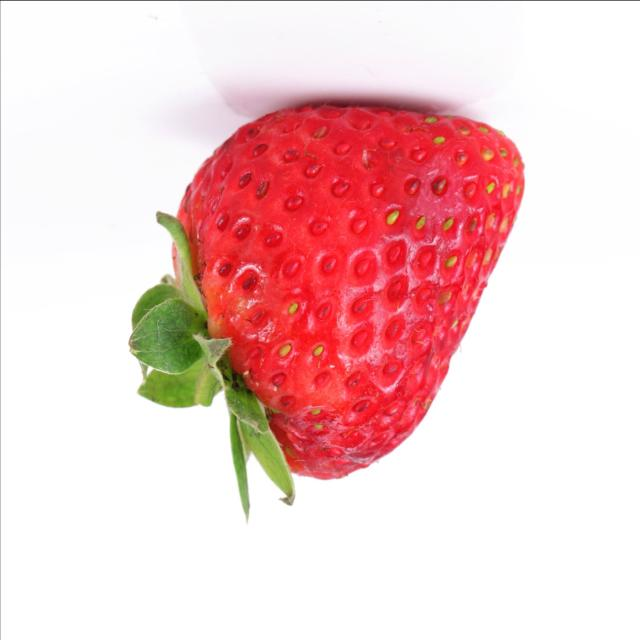strawberry: (116, 74, 540, 538)
